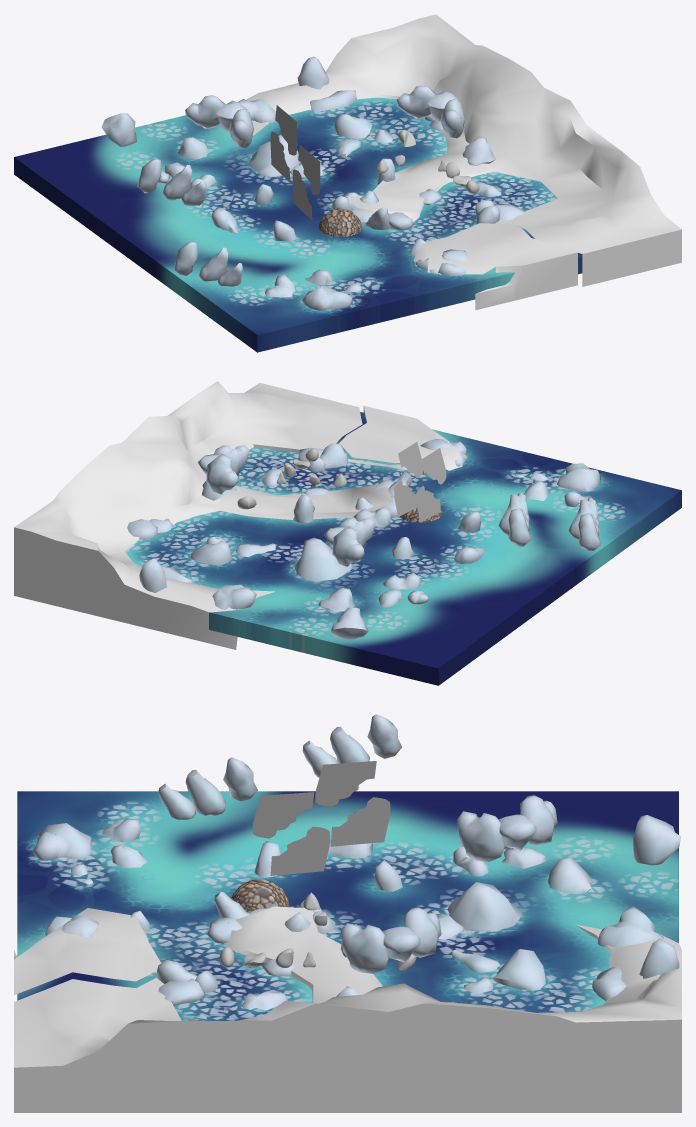
The model's file is ice new.fbx.
3 views of the same model, one above another, from view 1: azimuth 30°, elevation 25°; view 2: azimuth 150°, elevation 25°; view 3: azimuth 270°, elevation 25° (orthographic). The views are drawn at different scales.
Parts seen in each view (by area): view 1: polySurface41.002, polySurface41.020, polySurface41.001, polySurface41, polySurface41.053, polySurface41.051, polySurface41.014, polySurface41.003, polySurface41.032, polySurface41.049, polySurface41.033, polySurface41.030 (+10 smaller); view 2: polySurface41.002, polySurface41.020, polySurface41.001, polySurface41, polySurface41.051, polySurface41.014, polySurface41.032, polySurface41.049, polySurface41.039, polySurface41.003, polySurface41.033, polySurface41.040 (+9 smaller); view 3: polySurface41.002, polySurface41.020, polySurface41, polySurface41.001, polySurface41.051, polySurface41.030, polySurface41.052, polySurface41.003, polySurface41.014, polySurface41.039, polySurface41.033, polySurface41.053 (+23 smaller).
Boxes of the visible parts, x1,y1,x2,y2 form: polySurface41.002: (14, 97, 582, 352); polySurface41.020: (246, 14, 681, 286); polySurface41.001: (413, 223, 577, 310); polySurface41: (270, 105, 495, 271); polySurface41.053: (318, 208, 361, 237); polySurface41.051: (248, 134, 301, 176); polySurface41.014: (302, 285, 352, 310); polySurface41.003: (101, 113, 136, 146); polySurface41.032: (396, 85, 436, 118); polySurface41.049: (185, 95, 225, 128); polySurface41.033: (333, 114, 372, 138); polySurface41.030: (440, 99, 465, 138); polySurface41.002: (126, 412, 681, 685); polySurface41.020: (14, 381, 407, 649); polySurface41.001: (339, 405, 465, 470); polySurface41: (394, 442, 446, 522); polySurface41.051: (294, 537, 352, 581); polySurface41.014: (557, 463, 600, 491); polySurface41.032: (206, 454, 238, 494); polySurface41.049: (332, 526, 364, 566); polySurface41.039: (212, 584, 256, 609); polySurface41.003: (331, 607, 368, 639); polySurface41.033: (190, 540, 231, 565); polySurface41.040: (139, 558, 166, 592); polySurface41.002: (14, 791, 678, 1112); polySurface41.020: (14, 906, 681, 1112); polySurface41: (16, 761, 509, 956); polySurface41.001: (14, 908, 161, 994); polySurface41.051: (447, 882, 521, 931); polySurface41.030: (341, 923, 389, 973); polySurface41.052: (457, 811, 505, 861); polySurface41.003: (632, 815, 680, 865); polySurface41.014: (33, 823, 91, 860); polySurface41.039: (597, 906, 663, 947); polySurface41.033: (493, 949, 545, 990); polySurface41.053: (231, 879, 289, 912).
Size of the model in its own units: 7388 by 2107 by 7425.
